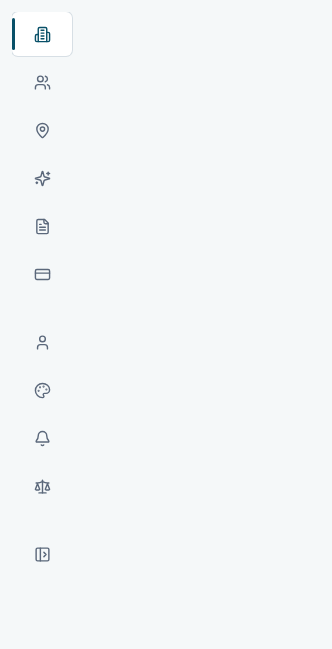
Test: SettingsNav › toggles the collapse state via the labelled toggle button
Click the button named "Expand navigation" at (42,554), box left=12, top=532, right=72, bottom=576
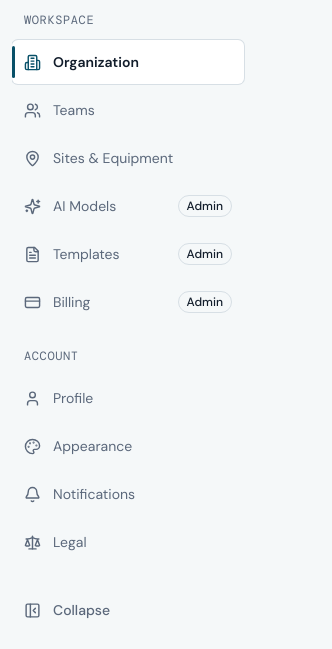
Now the button with aria-label "Collapse navigation" is shown, box left=12, top=588, right=244, bottom=632
